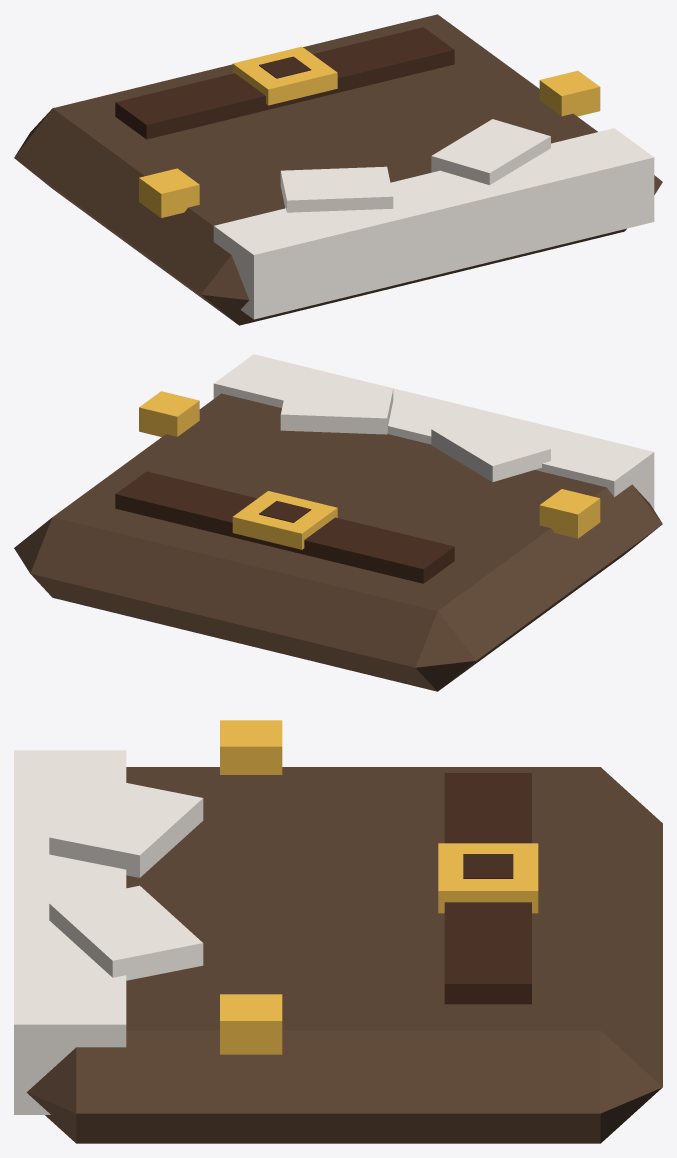
The model's file is CatCafe_Accessory_Vest_Walk.glb.
3 renders of one model, top to bottom at view 1: azimuth 30°, elevation 25°; view 2: azimuth 150°, elevation 25°; view 3: azimuth 270°, elevation 25°, orthographic. The views are drawn at different scales.
Visible parts, largest first — view 1: CatCafe_Accessory_Vest_Walk; view 2: CatCafe_Accessory_Vest_Walk; view 3: CatCafe_Accessory_Vest_Walk.
Part boxes in pixels (box(x1,y1,x2,y2)): CatCafe_Accessory_Vest_Walk: box(14, 14, 662, 325); CatCafe_Accessory_Vest_Walk: box(14, 354, 662, 691); CatCafe_Accessory_Vest_Walk: box(14, 720, 662, 1143).
Bounding box in the file's own units: 0.6 × 0.129 × 0.52.
1 material, 1 textured.
